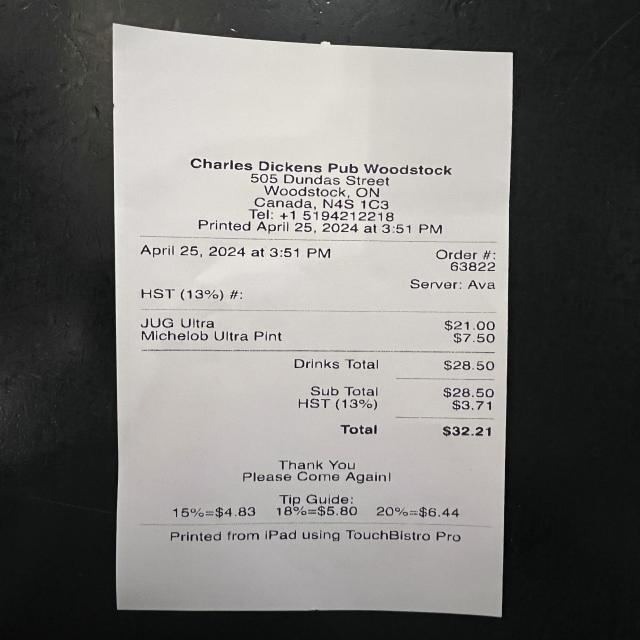item: (132, 313, 502, 335), (132, 329, 503, 349)
store_name: (181, 154, 462, 180)
total_amount: (334, 419, 500, 445)
transaction_date: (134, 240, 250, 262)
